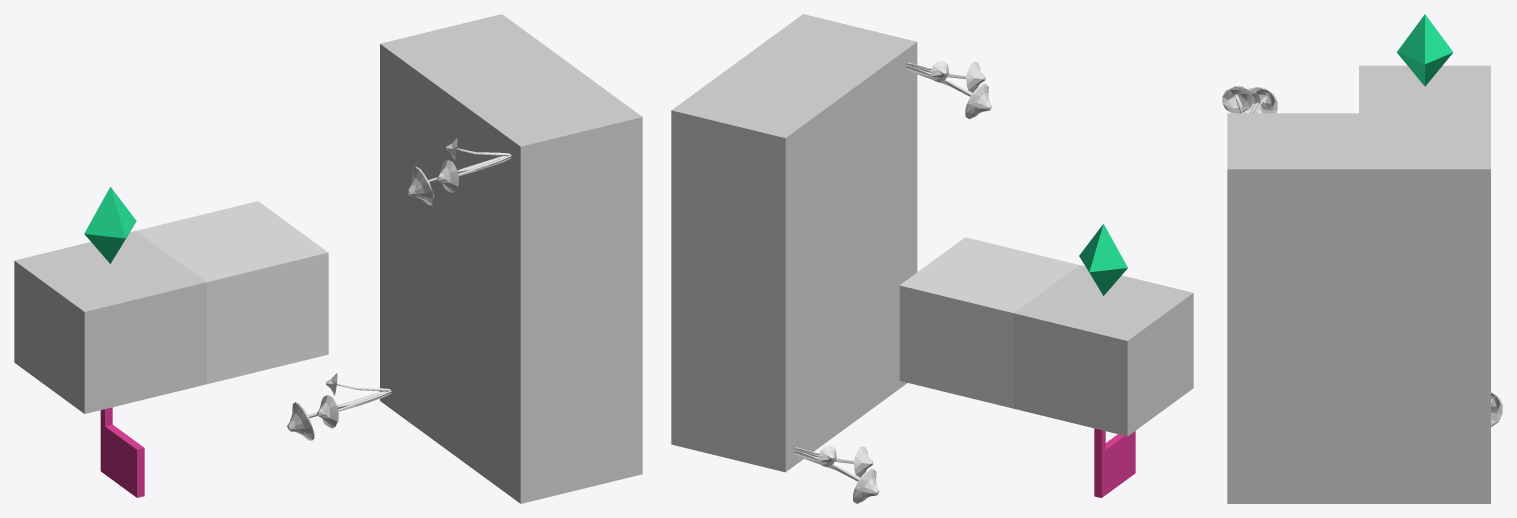
File: Stage4.glb
3 renders of one model, left to right at view 1: azimuth 30°, elevation 25°; view 2: azimuth 150°, elevation 25°; view 3: azimuth 270°, elevation 25°, orthographic. The views are drawn at different scales.
Visible parts, largest first — view 1: Stage5_0, MoveScaffoldStage5_0, Goal_5, Start_5, Mushroom.004, Mushroom.003; view 2: Stage5_0, MoveScaffoldStage5_0, Goal_5, Start_5, Mushroom.003, Mushroom.004; view 3: Stage5_0, Start_5, Mushroom.003.
Boxes of the visible parts, x1,y1,x2,y2 form: Stage5_0: (14, 14, 642, 503); MoveScaffoldStage5_0: (136, 201, 328, 384); Goal_5: (100, 407, 144, 497); Start_5: (84, 187, 136, 263); Mushroom.004: (287, 373, 391, 440); Mushroom.003: (407, 138, 511, 205); Stage5_0: (671, 14, 1193, 472); MoveScaffoldStage5_0: (899, 237, 1078, 408); Goal_5: (1094, 428, 1135, 497); Start_5: (1079, 224, 1127, 295); Mushroom.003: (905, 61, 991, 118); Mushroom.004: (793, 445, 879, 503); Stage5_0: (1227, 65, 1490, 503); Start_5: (1397, 14, 1453, 86); Mushroom.003: (1222, 86, 1277, 113).
Size of the model in its own units: 40 by 29.6 by 21.26.
